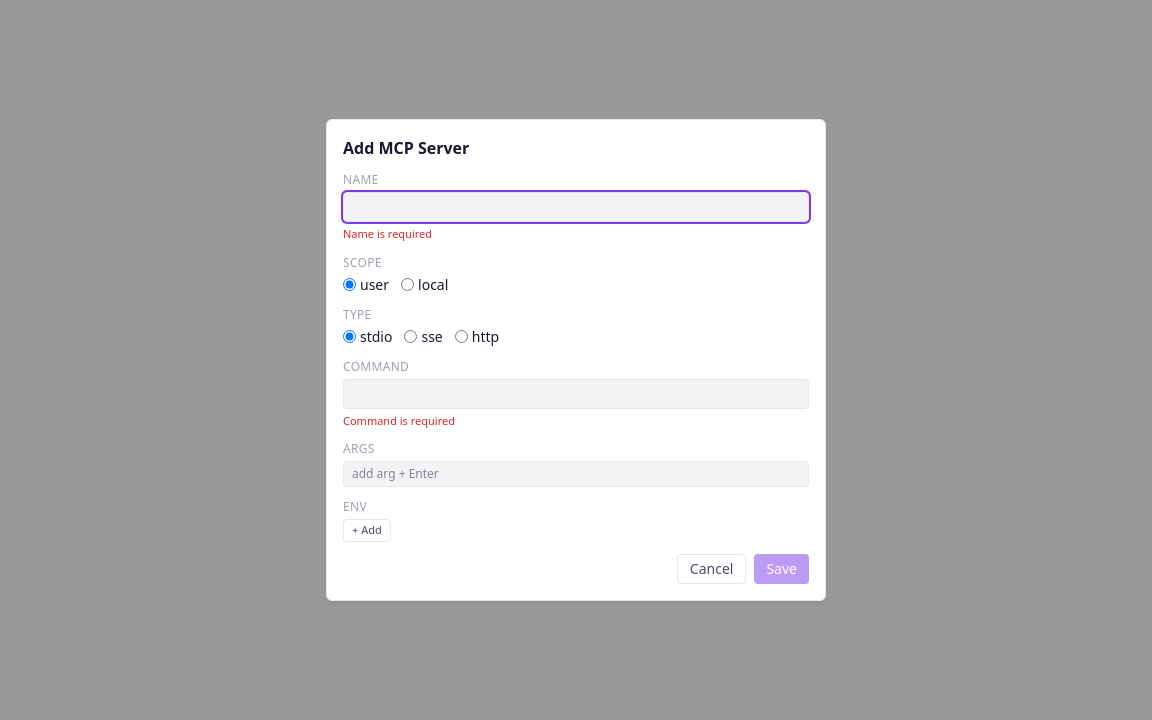
Scenario: McpServerForm › name validation: required, alphanumeric+hyphens, unique within scope
Expected: the text with test id "form-error-name" shows "required", left=343, top=226, right=432, bottom=241
Expected: the button with test id "form-save" is disabled, left=754, top=554, right=809, bottom=584
Step 1. Type "bad name!" into the field with test id "form-name" → x=576, y=207, box left=343, top=192, right=809, bottom=222
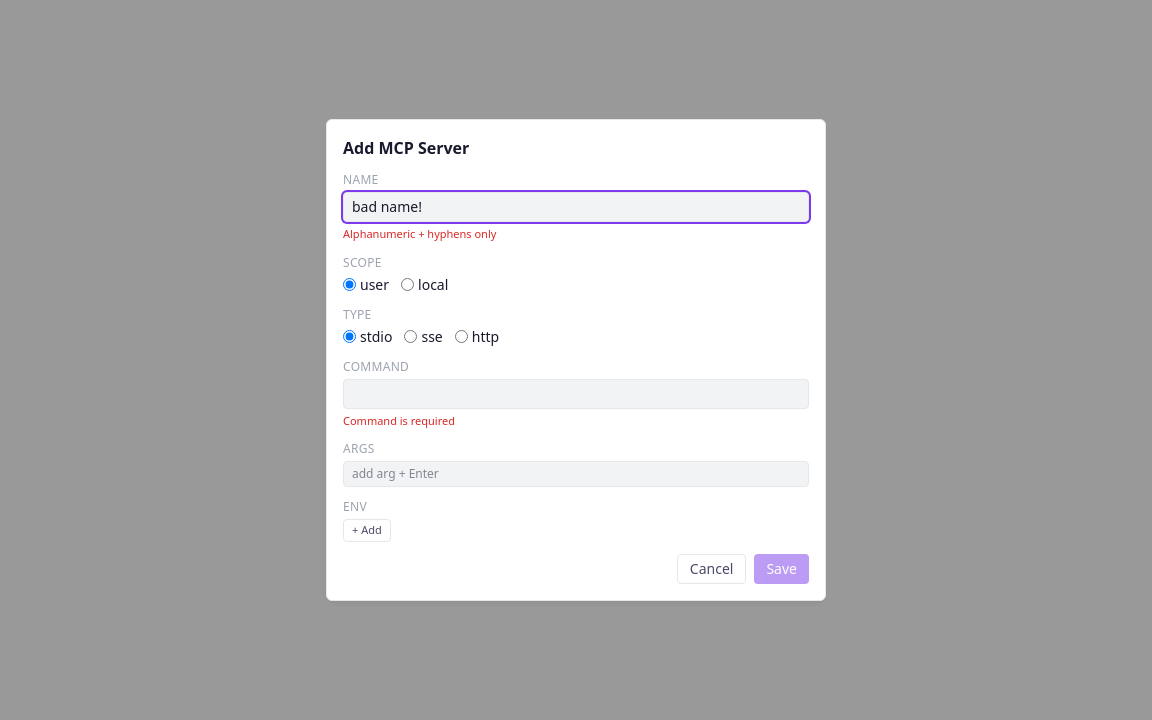
Expected: the text with test id "form-error-name" shows "Alphanumeric", left=343, top=226, right=496, bottom=241
Step 2. Replace the text in the field with test id "form-name" with "taken" → x=576, y=207, box left=343, top=192, right=809, bottom=222
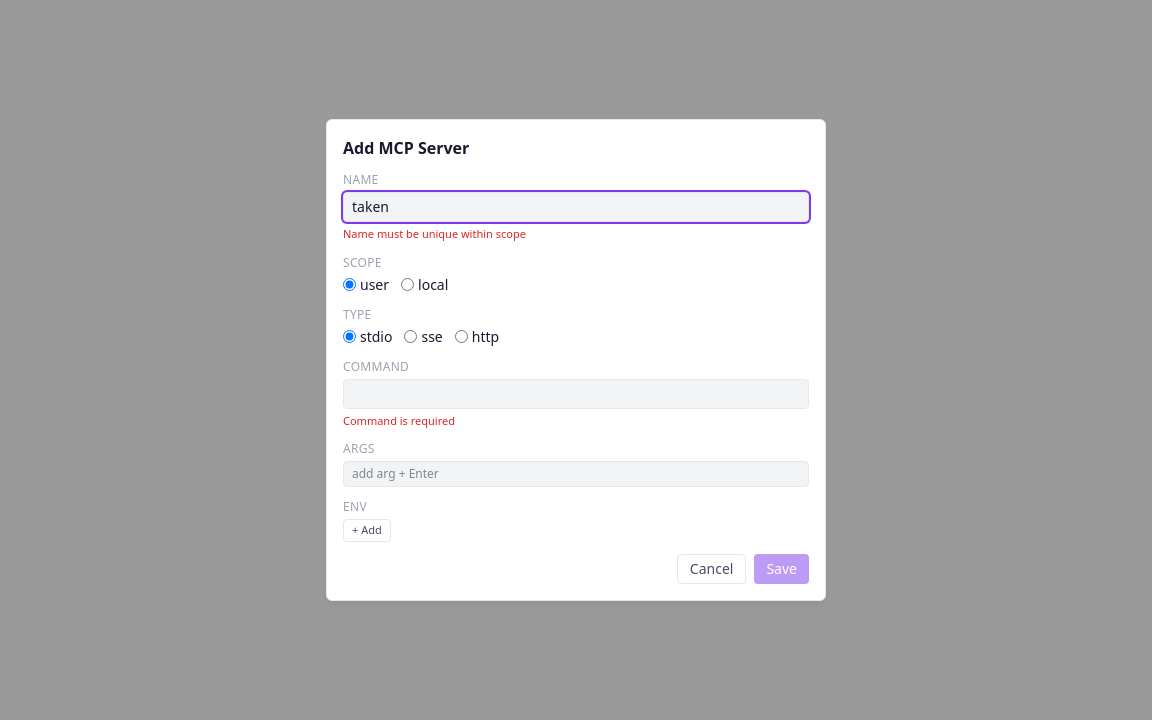
Expected: the text with test id "form-error-name" shows "unique", left=343, top=226, right=526, bottom=241
Step 3. Replace the text in the field with test id "form-name" with "ok-name" → x=576, y=207, box left=343, top=192, right=809, bottom=222
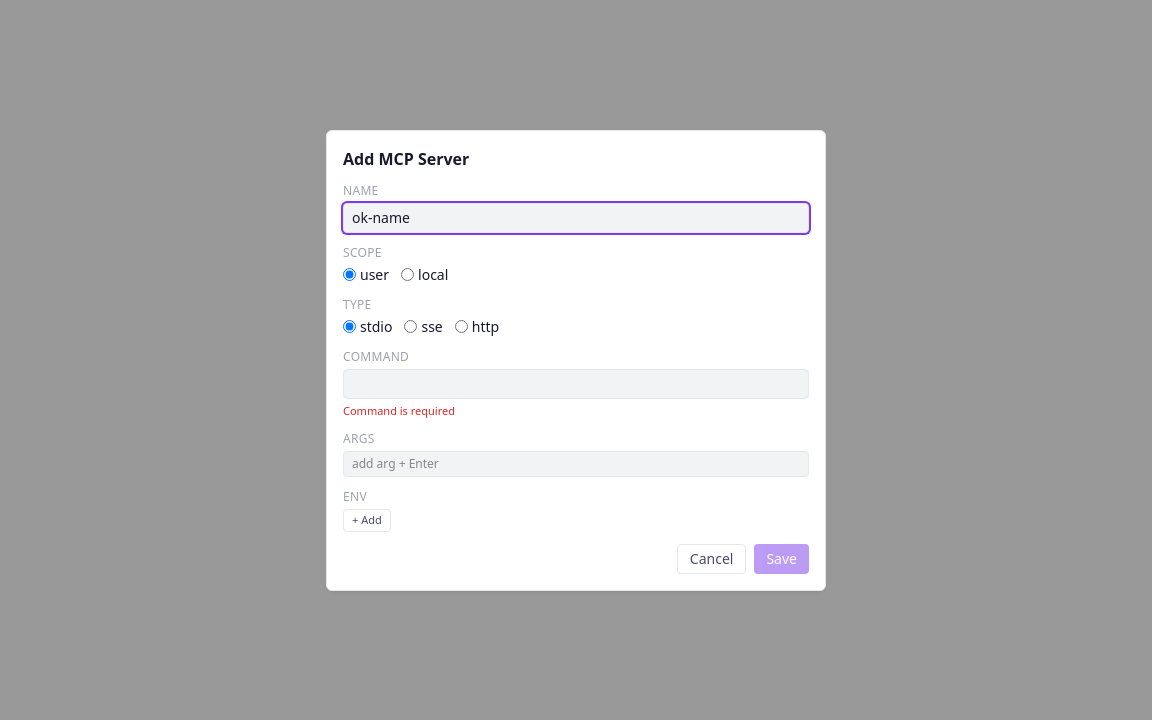
Step 4. Type "x" into the field with test id "form-command" → x=576, y=384, box left=343, top=368, right=809, bottom=398
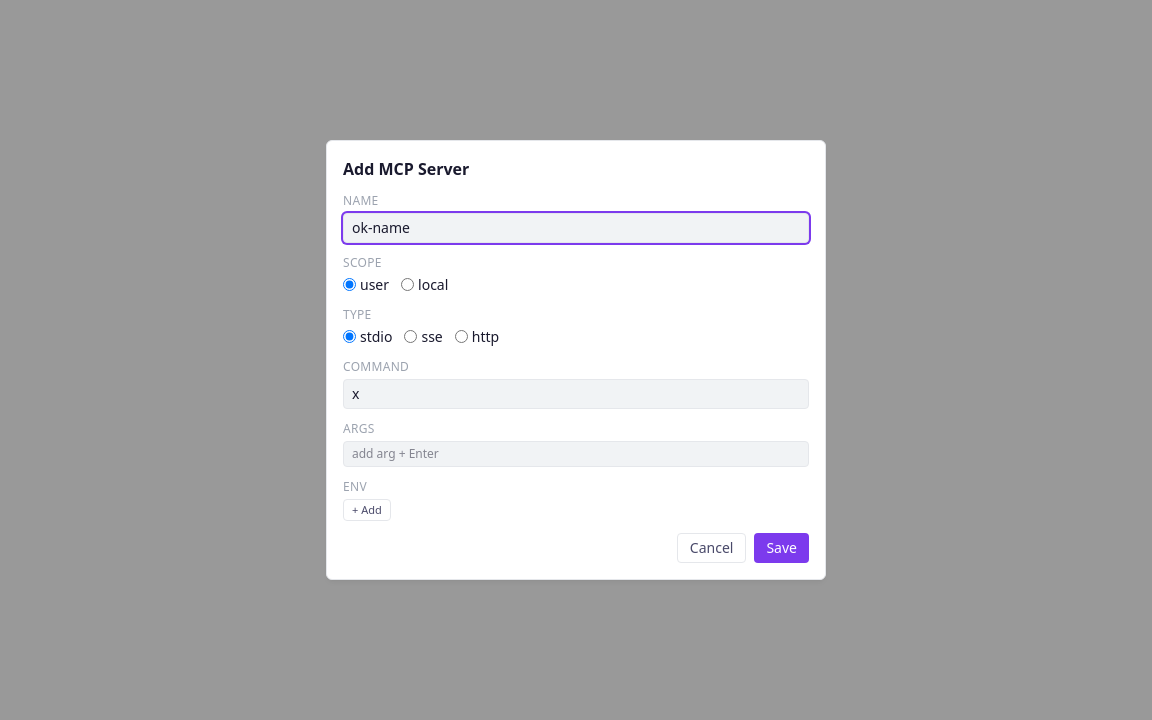
Expected: the button with test id "form-save" is enabled, left=754, top=533, right=809, bottom=563
